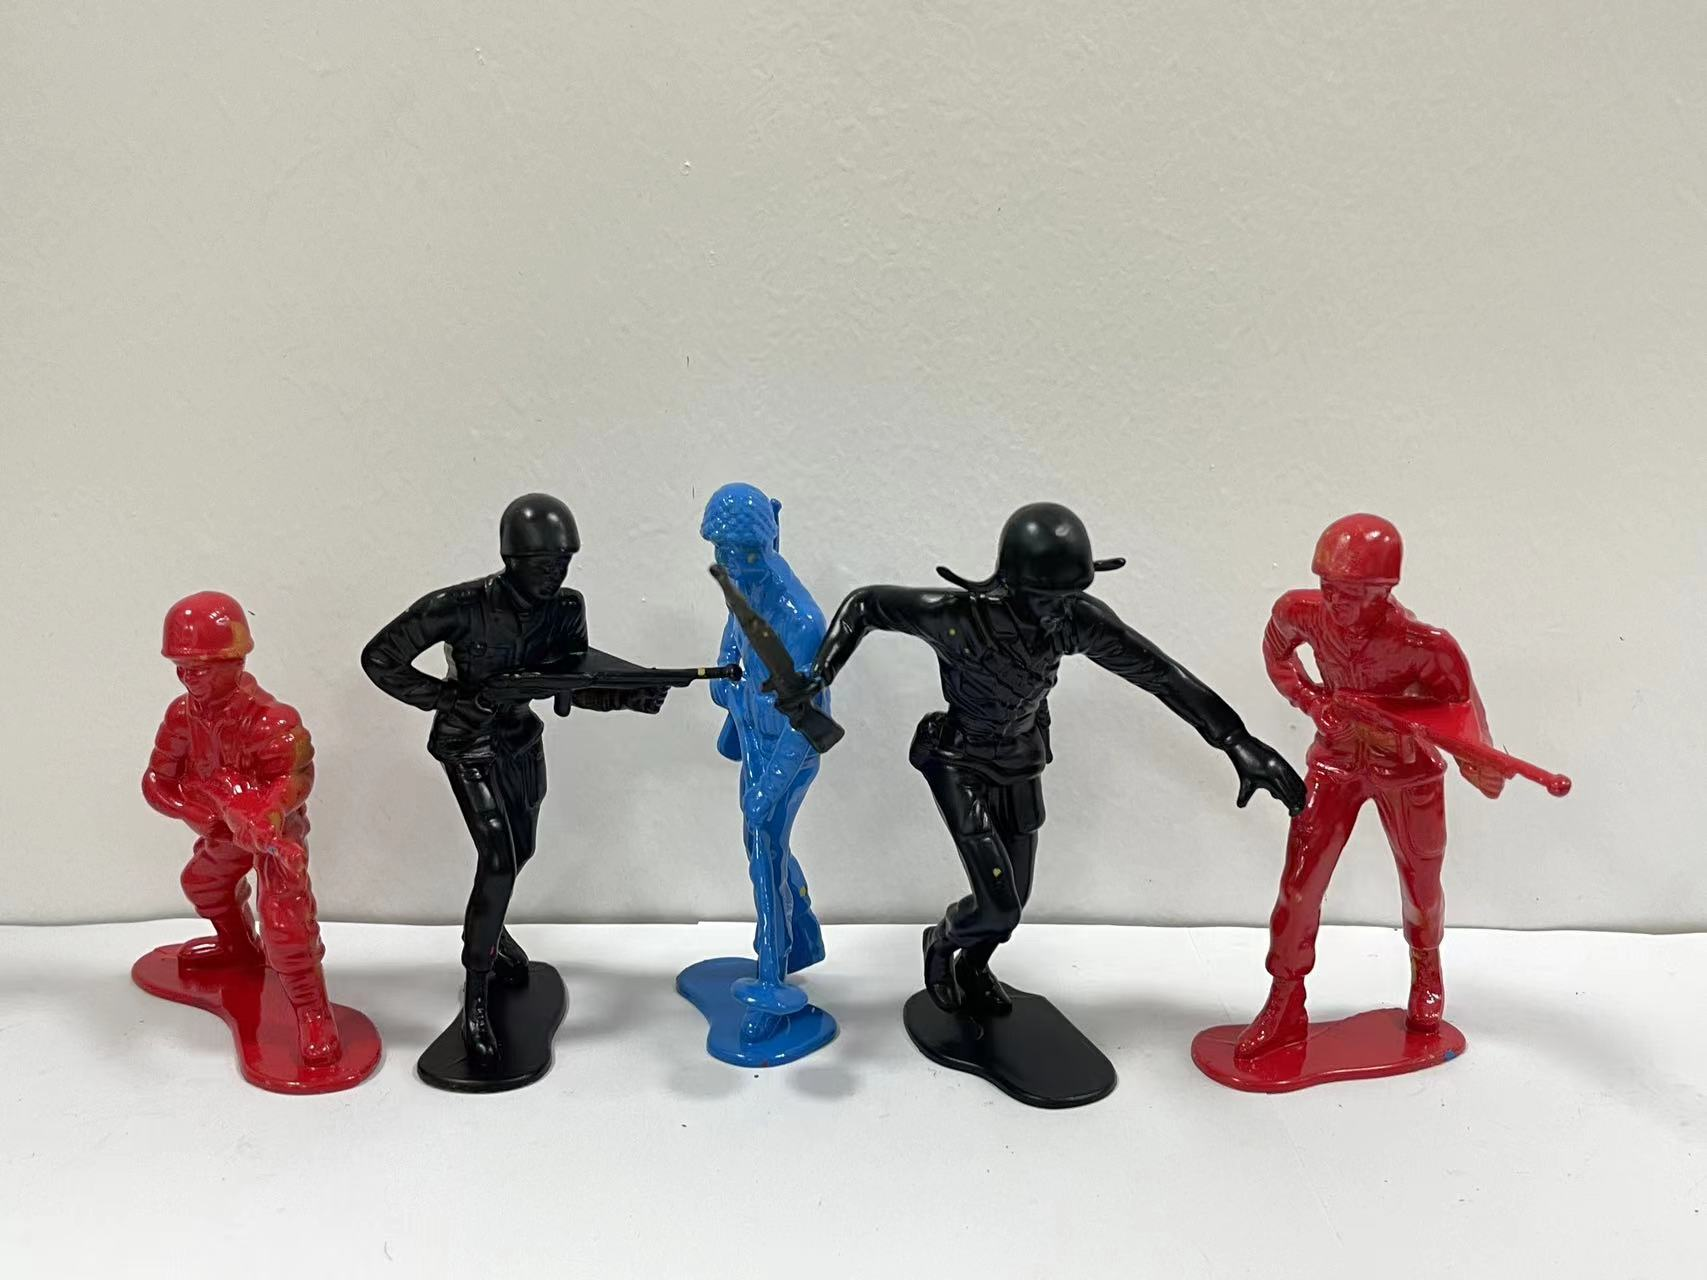black: (815, 491, 1234, 1103), (345, 463, 706, 1104)
blue: (673, 448, 854, 1101)
red: (1202, 506, 1595, 1107), (85, 573, 388, 1111)
